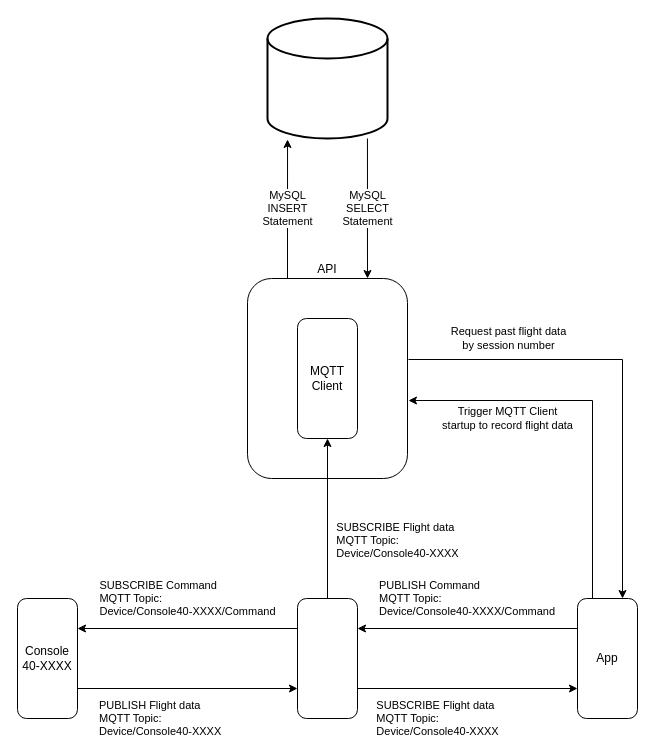
Image size: 655x755. Some labels were removed from this diagram. The centre of each missing label's shape, as x and y in pixels:
"Database" belongs at (327,78).
"MQTT Broker" belongs at (327,658).
